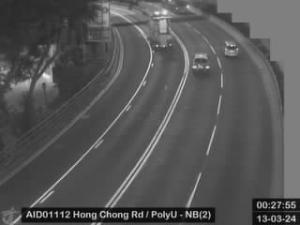bus: (166, 0, 188, 14)
truck: (149, 10, 173, 50)
vehicle: (192, 53, 210, 75), (224, 41, 240, 57)
